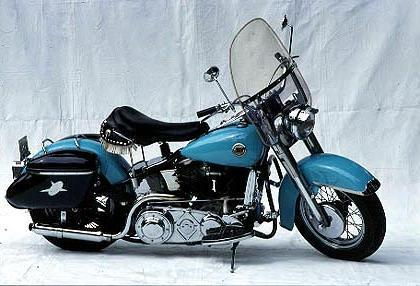motorcycle: (1, 33, 403, 267)
